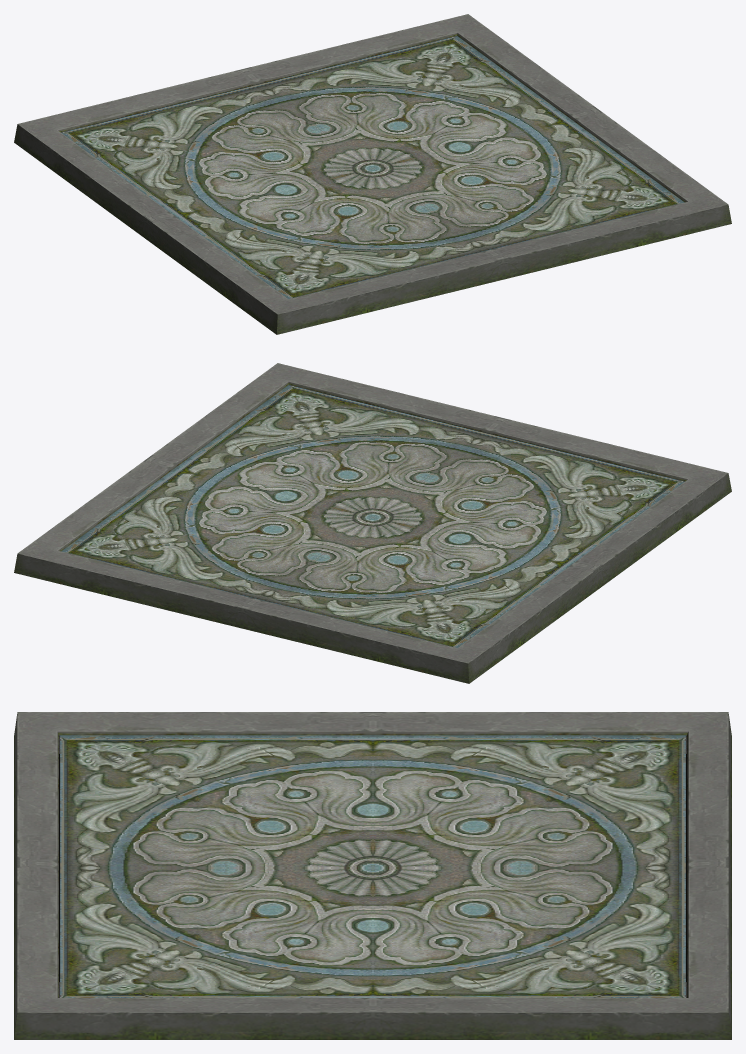
The model's file is yw_yanziwu_dizhuan.FBX.
The picture shows the model from 3 angles, top to bottom: view 1: azimuth 30°, elevation 25°; view 2: azimuth 150°, elevation 25°; view 3: azimuth 270°, elevation 25°; orthographic projection. The views are drawn at different scales.
Parts seen in each view (by area): view 1: yw_yanziwu_dizhuan; view 2: yw_yanziwu_dizhuan; view 3: yw_yanziwu_dizhuan.
Part boxes in pixels (x1,y1,x2,y2): yw_yanziwu_dizhuan: (14,14,731,334); yw_yanziwu_dizhuan: (14,363,731,683); yw_yanziwu_dizhuan: (14,712,731,1039).
Size of the model in its own units: 670 by 26.68 by 670.
